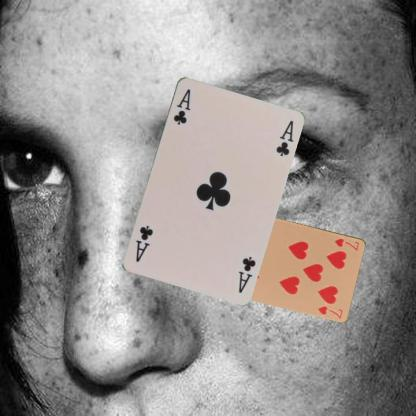7h: (332, 236, 361, 252)
Ac: (170, 86, 192, 126), (236, 253, 257, 294)
